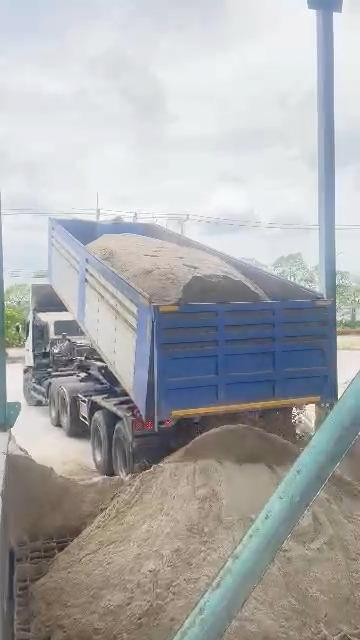sand: (33, 402, 335, 639), (228, 476, 359, 639), (4, 440, 122, 545), (88, 234, 266, 303), (339, 435, 360, 484)
